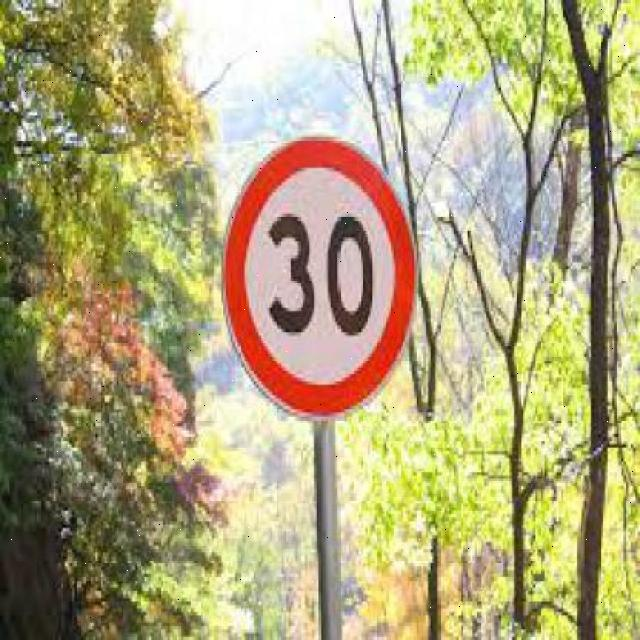speed limit 30: (225, 136, 414, 418)
